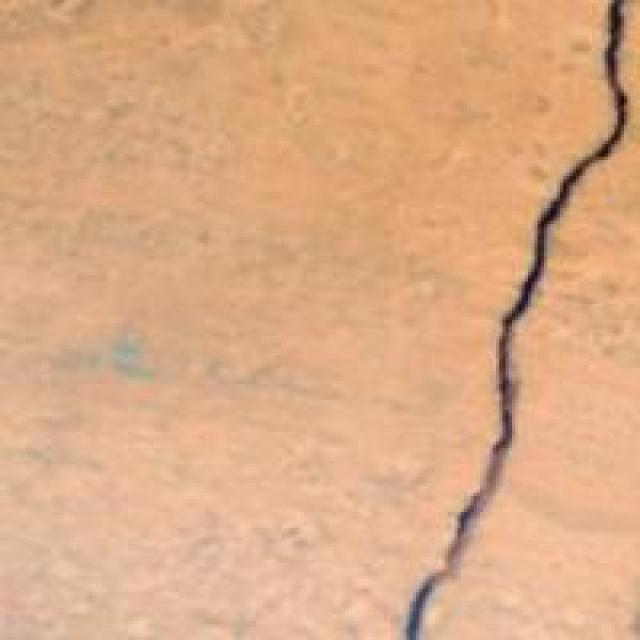crack: (381, 0, 637, 637)
